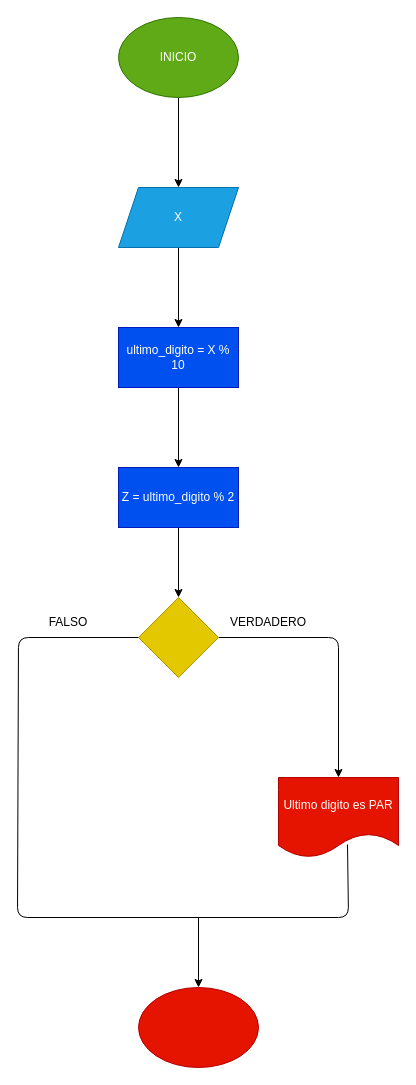
The diagram is 416 pixels wide and 1085 high, and some of its shapes have lost their labels. Here are the shapes that lost their labels. From the top down, the centre of each, then its label:
the point at 178,637: Z == 0
the point at 198,1027: FIN
